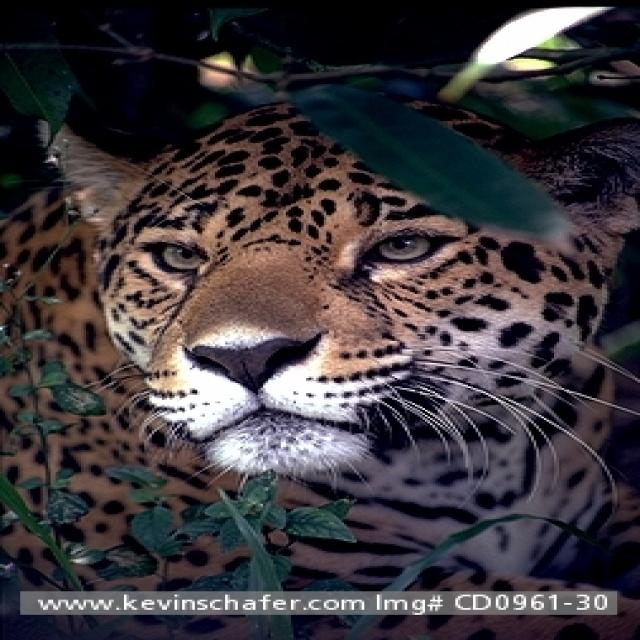Leopard: (0, 83, 635, 586)
